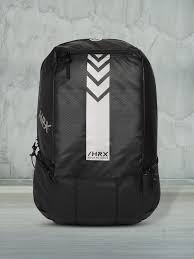backpack: (30, 37, 160, 226)
